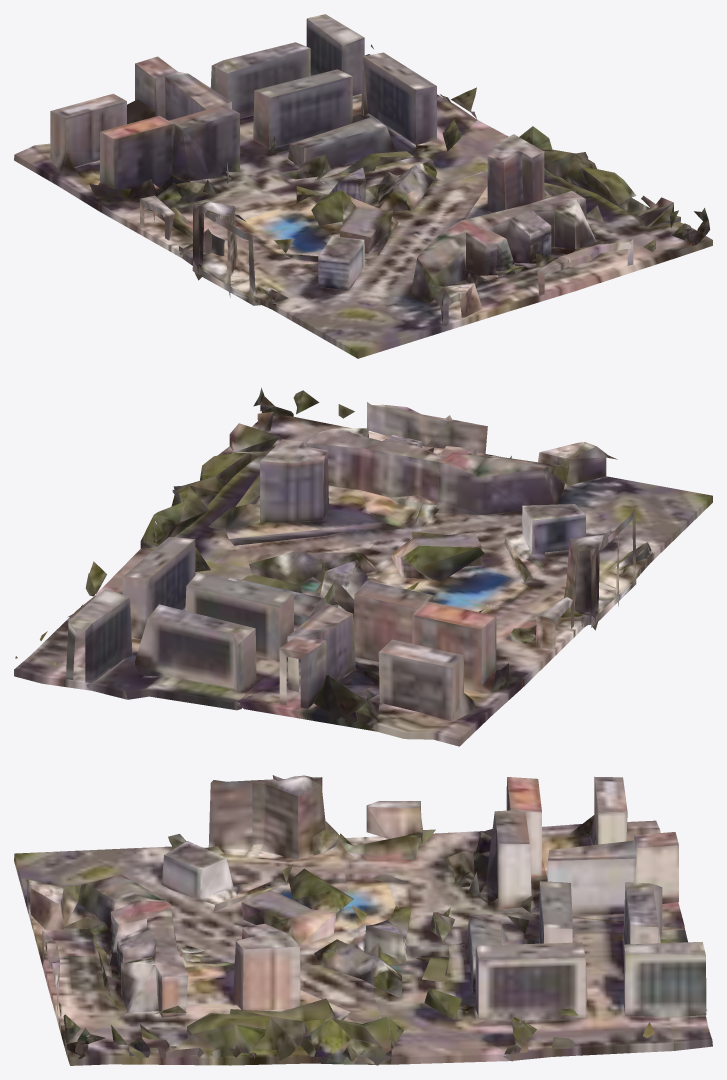
3 views of the same model, one above another, from view 1: azimuth 30°, elevation 25°; view 2: azimuth 150°, elevation 25°; view 3: azimuth 270°, elevation 25° (orthographic). The views are drawn at different scales.
Visible parts, largest first — view 1: Mesh_0; view 2: Mesh_0; view 3: Mesh_0.
Part boxes in pixels (x1=…): Mesh_0: x1=14, y1=14, x2=712, y2=358; Mesh_0: x1=14, y1=387, x2=712, y2=746; Mesh_0: x1=14, y1=775, x2=712, y2=1065.
Size of the model in its own units: 266 by 46 by 330.
Materials: 2 (2 with a texture image).
